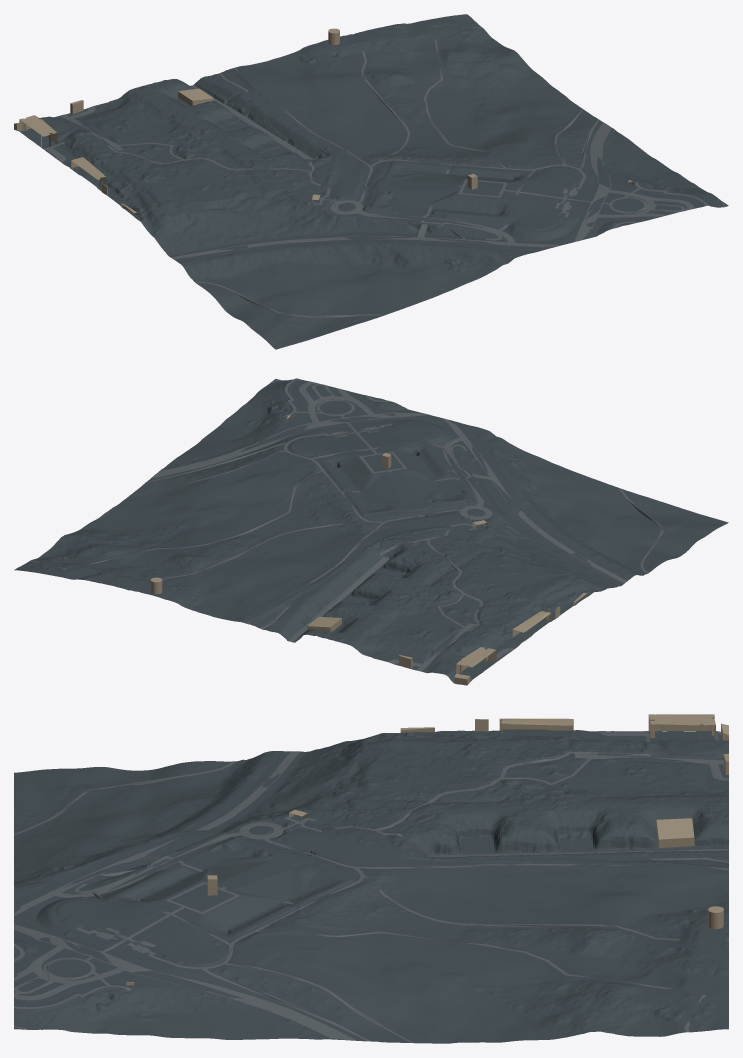
Rendered from epsg26910-1416-10890.lod0.glb.
3 renders of one model, top to bottom at view 1: azimuth 30°, elevation 25°; view 2: azimuth 150°, elevation 25°; view 3: azimuth 270°, elevation 25°, orthographic. The views are drawn at different scales.
Parts seen in each view (by area): view 1: epsg26910-1416-10890-lod0; view 2: epsg26910-1416-10890-lod0; view 3: epsg26910-1416-10890-lod0.
Part boxes in pixels (left/top/right/bottom): epsg26910-1416-10890-lod0: left=14, top=14, right=728, bottom=349; epsg26910-1416-10890-lod0: left=14, top=378, right=728, bottom=685; epsg26910-1416-10890-lod0: left=14, top=714, right=728, bottom=1043.
Size of the model in its own units: 384 by 44.6 by 384.
